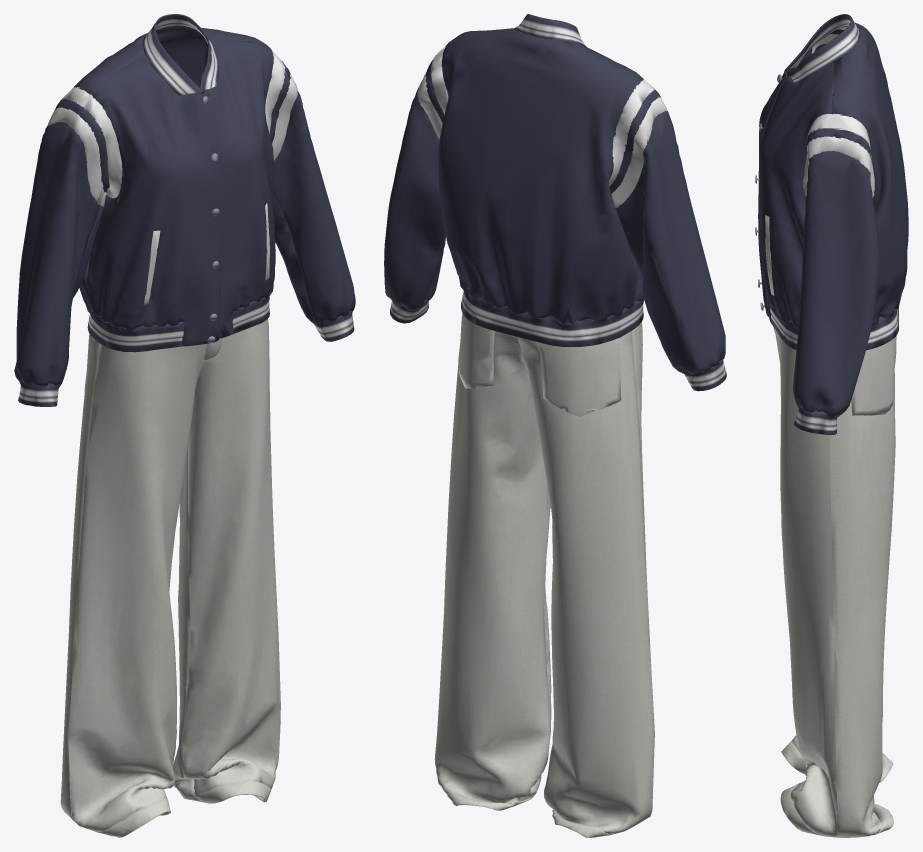
3 renders of one model, left to right at view 1: azimuth 30°, elevation 25°; view 2: azimuth 150°, elevation 25°; view 3: azimuth 270°, elevation 25°, orthographic.
Visible parts, largest first — view 1: Object_6, Object_7, Object_11, Object_9, Object_12, Object_10, Object_8, Object_15, Object_14, Object_13, Object_5; view 2: Object_15, Object_8, Object_14, Object_9, Object_13, Object_6, Object_10, Object_5, Object_4; view 3: Object_15, Object_7, Object_10, Object_8, Object_12, Object_9, Object_13, Object_11, Object_4.
Part boxes in pixels (x1,y1,x2,y2): Object_6: [55, 99, 206, 831]; Object_7: [95, 319, 280, 837]; Object_11: [87, 54, 222, 346]; Object_9: [14, 61, 354, 386]; Object_12: [208, 39, 275, 338]; Object_10: [272, 70, 355, 323]; Object_8: [18, 14, 270, 406]; Object_15: [84, 291, 279, 798]; Object_14: [60, 337, 175, 820]; Object_13: [61, 45, 285, 198]; Object_5: [46, 44, 221, 361]; Object_15: [434, 285, 644, 803]; Object_8: [438, 14, 726, 391]; Object_14: [517, 331, 654, 834]; Object_9: [384, 60, 725, 374]; Object_13: [431, 46, 654, 185]; Object_6: [609, 89, 660, 817]; Object_10: [384, 66, 442, 298]; Object_5: [611, 97, 667, 207]; Object_4: [447, 784, 615, 837]; Object_15: [769, 302, 898, 837]; Object_7: [774, 328, 837, 837]; Object_10: [793, 136, 879, 416]; Object_8: [784, 14, 908, 326]; Object_12: [759, 61, 833, 327]; Object_9: [794, 44, 879, 434]; Object_13: [803, 26, 874, 197]; Object_11: [758, 47, 812, 316]; Object_4: [765, 215, 893, 837].
Bounding box in the file's own units: 681 × 1552 × 278.
Materials: 4 (1 with a texture image).
